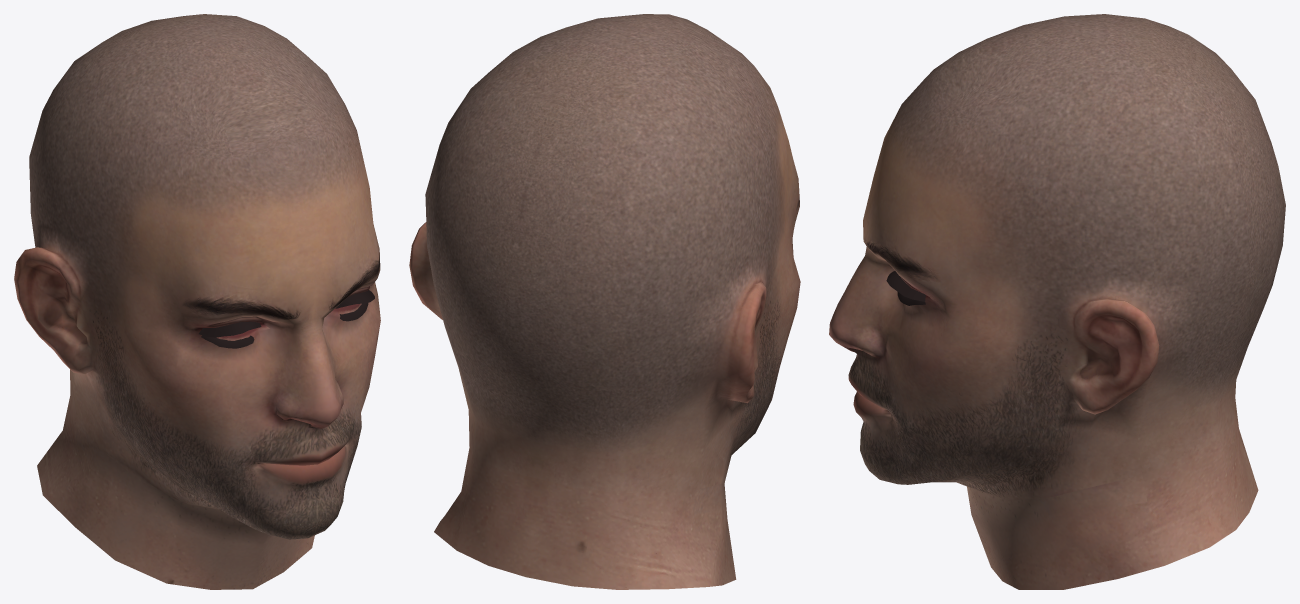
Rendered from SurvivorMale_Head_05_LOD0.glb.
The picture shows the model from 3 angles, left to right: view 1: azimuth 30°, elevation 25°; view 2: azimuth 150°, elevation 25°; view 3: azimuth 270°, elevation 25°; orthographic projection. The views are drawn at different scales.
Parts seen in each view (by area): view 1: Hoodie; view 2: Hoodie; view 3: Hoodie.
Boxes of the visible parts, x1,y1,x2,y2 form: Hoodie: [14, 14, 380, 589]; Hoodie: [409, 14, 800, 589]; Hoodie: [829, 14, 1285, 589].
Bounding box in the file's own units: 0.1845 × 0.2885 × 0.2223.
1 material, 1 textured.
